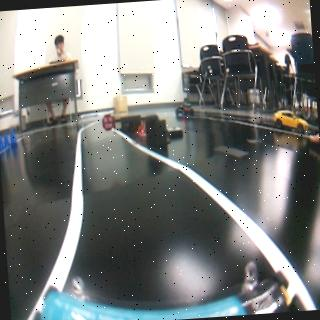stop: (101, 112, 114, 131)
